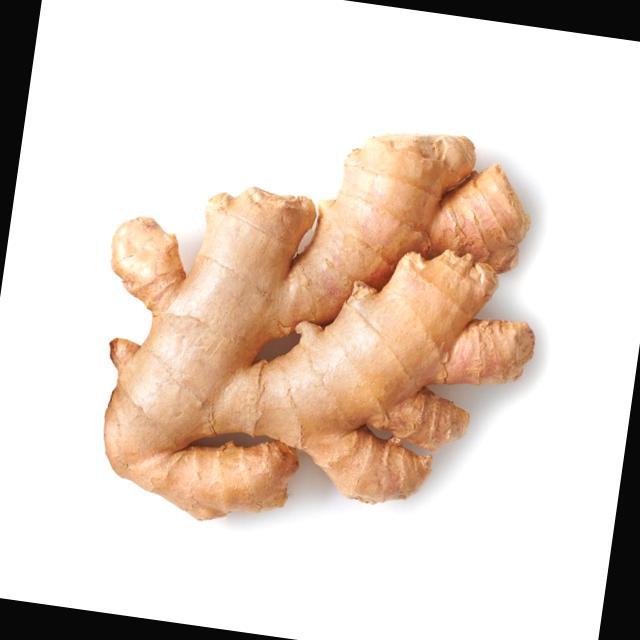ginger-root: (35, 66, 582, 584)
